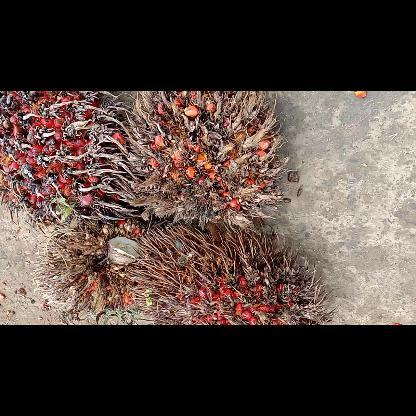Terlalu masak: (120, 91, 294, 235), (127, 218, 342, 324), (0, 91, 140, 227), (29, 211, 160, 319)
